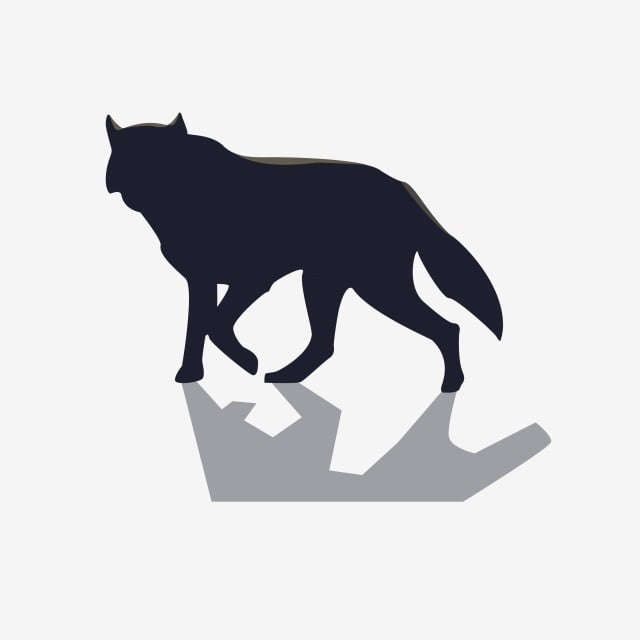Lobo: (69, 78, 557, 422)
